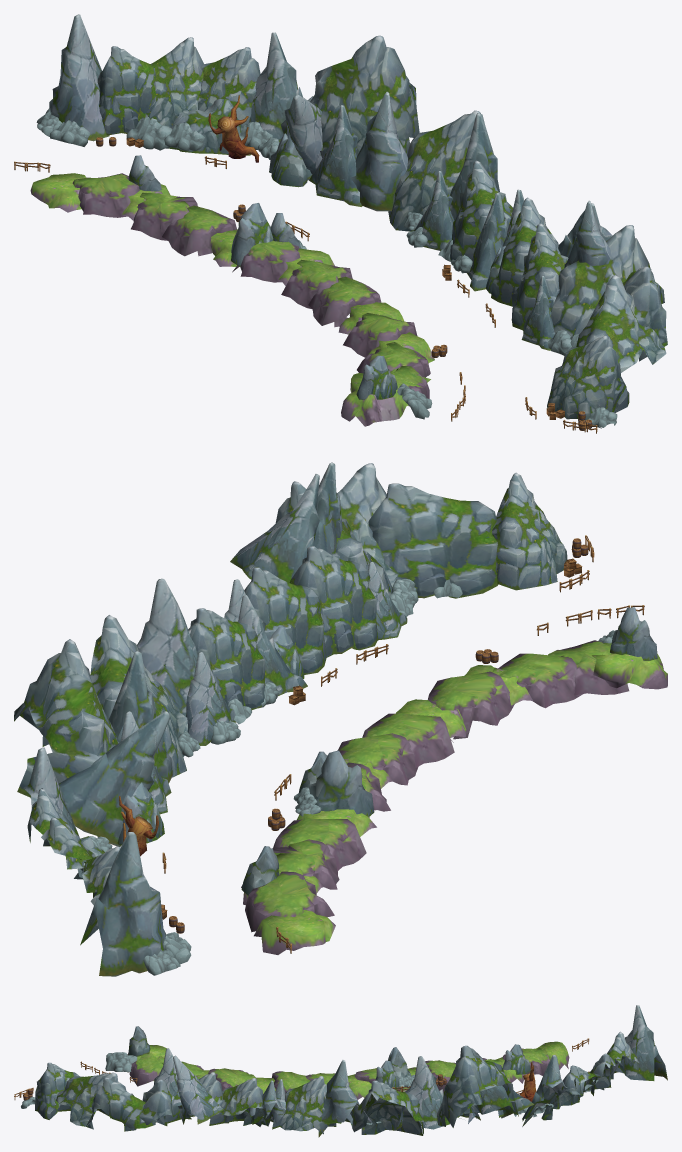
Rendered from yanshi11.fbx.
The picture shows the model from 3 angles, top to bottom: view 1: azimuth 30°, elevation 25°; view 2: azimuth 150°, elevation 25°; view 3: azimuth 270°, elevation 25°; orthographic projection. The views are drawn at different scales.
Parts seen in each view (by area): view 1: yanshi11; view 2: yanshi11; view 3: yanshi11.
Boxes of the visible parts, x1=… form: yanshi11: x1=14, y1=14, x2=667, y2=433; yanshi11: x1=14, y1=462, x2=667, y2=976; yanshi11: x1=14, y1=1005, x2=667, y2=1137.
Size of the model in its own units: 4505 by 2011 by 10976.
